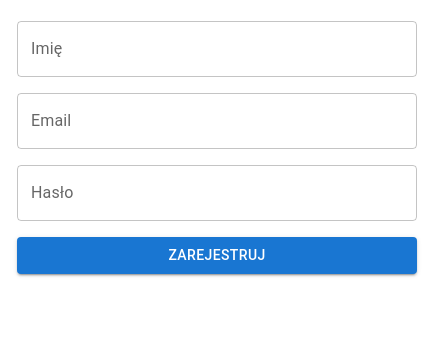
Test: RegisterForm › should display error message when registration fails
Type "John" into the field labelled "Imię" at (217, 49), box 17,21 -> 417,77
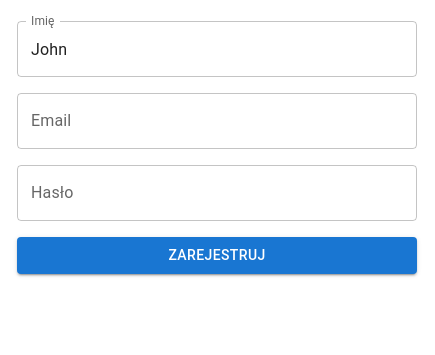
Type "john@example.com" into the field labelled "Email" at (217, 121), box 17,93 -> 417,149
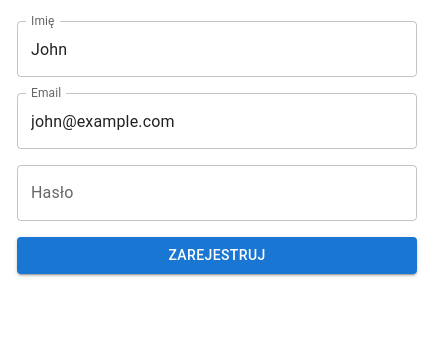
Type "password123" into the password field labelled "Hasło" at (217, 193), box 17,165 -> 417,221
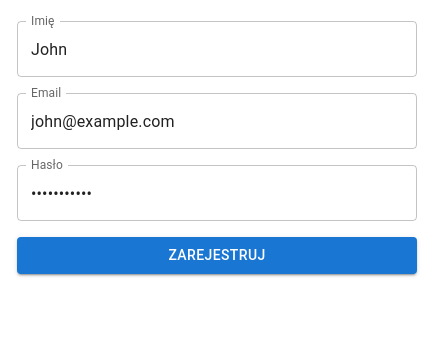
Click the button "Zarejestruj" at (217, 255), box 17,237 -> 417,274
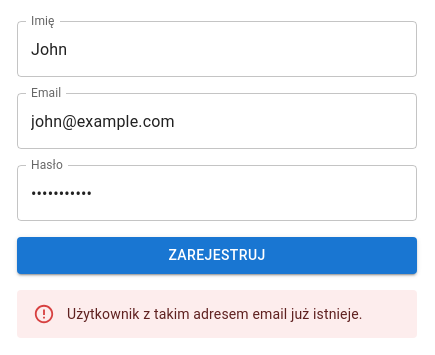
Expected: the text "Użytkownik z takim adresem email już istnieje." is shown, 67,306 -> 363,322
